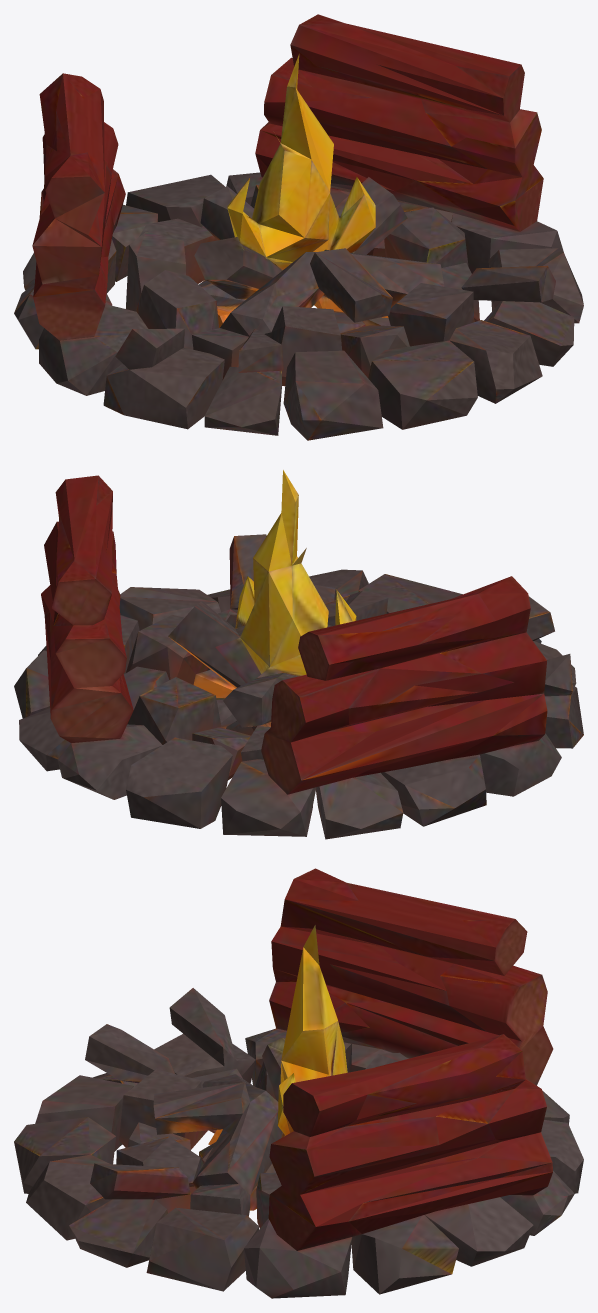
The model's file is campfire.glb.
The picture shows the model from 3 angles, top to bottom: view 1: azimuth 30°, elevation 25°; view 2: azimuth 150°, elevation 25°; view 3: azimuth 270°, elevation 25°; orthographic projection.
Size of the model in its own units: 1.9 by 0.9243 by 1.84.
1 material, 1 textured.
